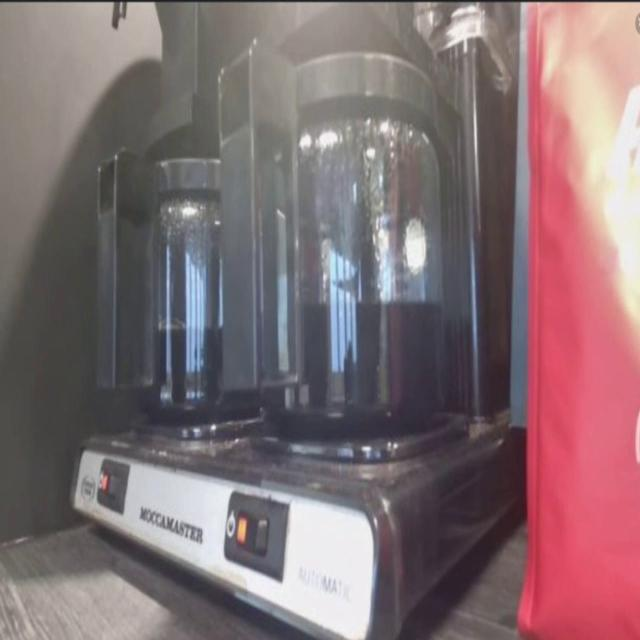coffee: (239, 27, 466, 459), (136, 137, 258, 427)
